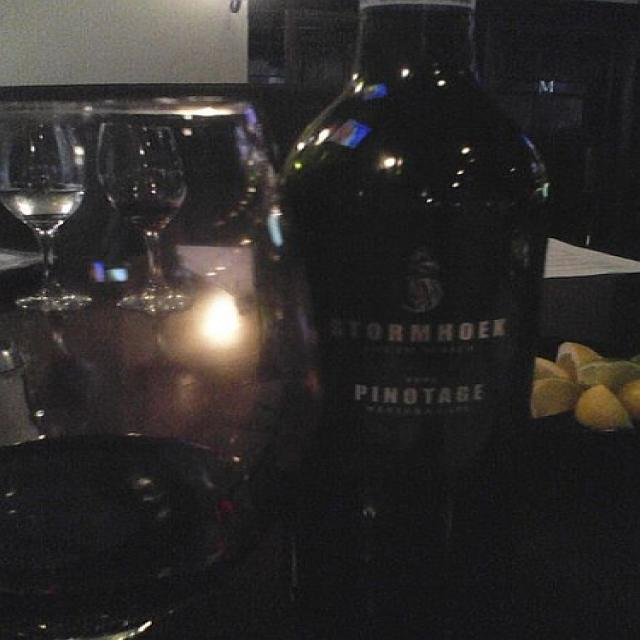Bottle: (305, 0, 577, 524)
Cup: (75, 108, 218, 299), (147, 79, 264, 285), (7, 112, 118, 326)
